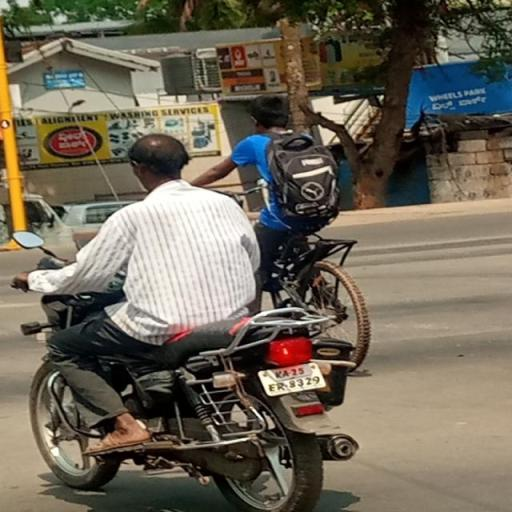bike: (8, 125, 362, 512)
numberplate: (252, 354, 327, 400)
withouthelmet: (122, 126, 189, 184)
